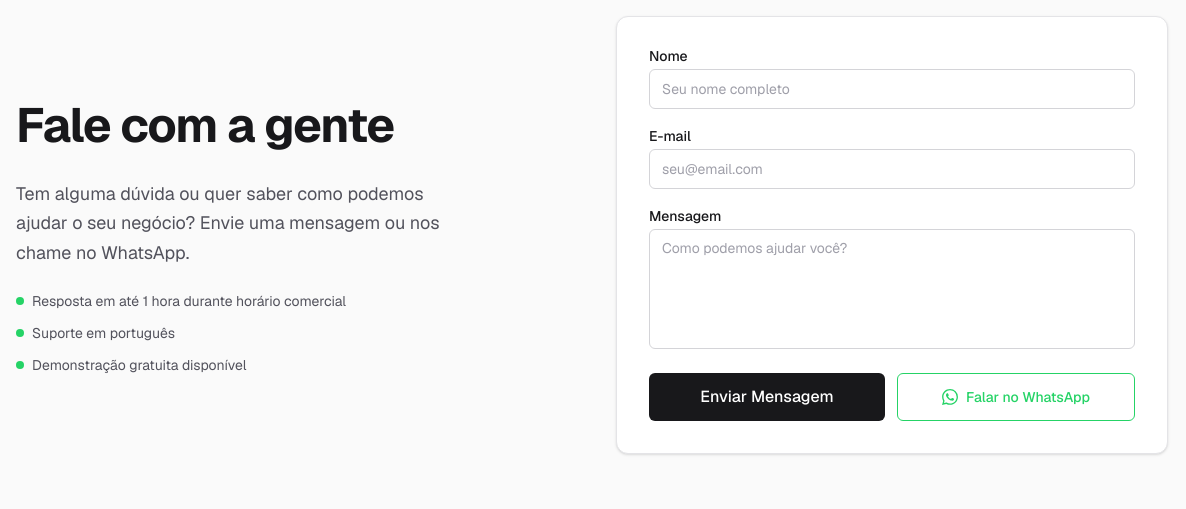
Test: Contact form › error state › shows error message after failed HTTP response
Type "João" into the field labelled "Nome" at (892, 89), box [649,69,1135,109]
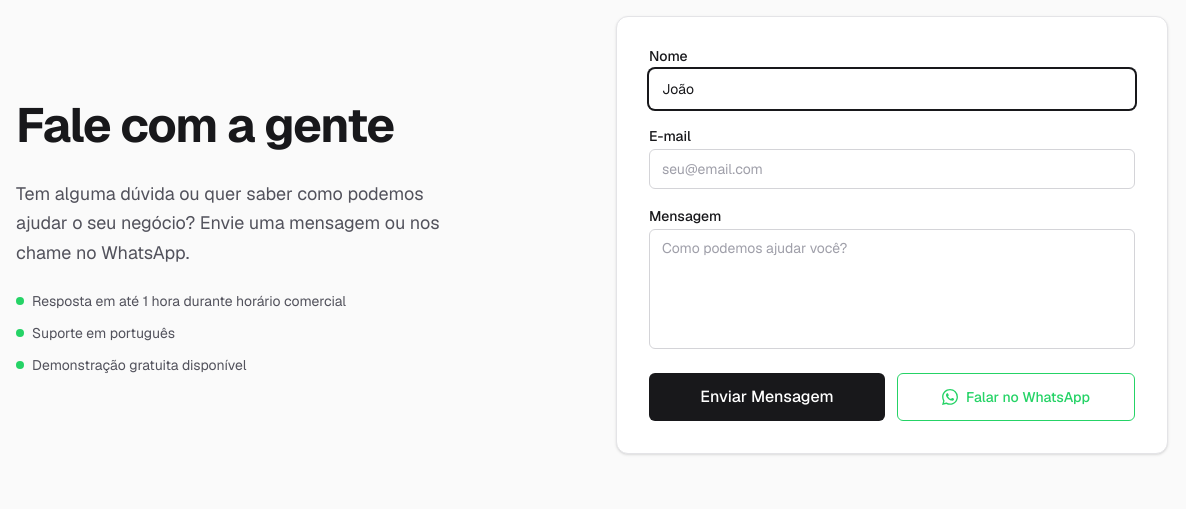
Type "joao@example.com" into the field labelled "E-mail" at (892, 169), box [649,149,1135,189]
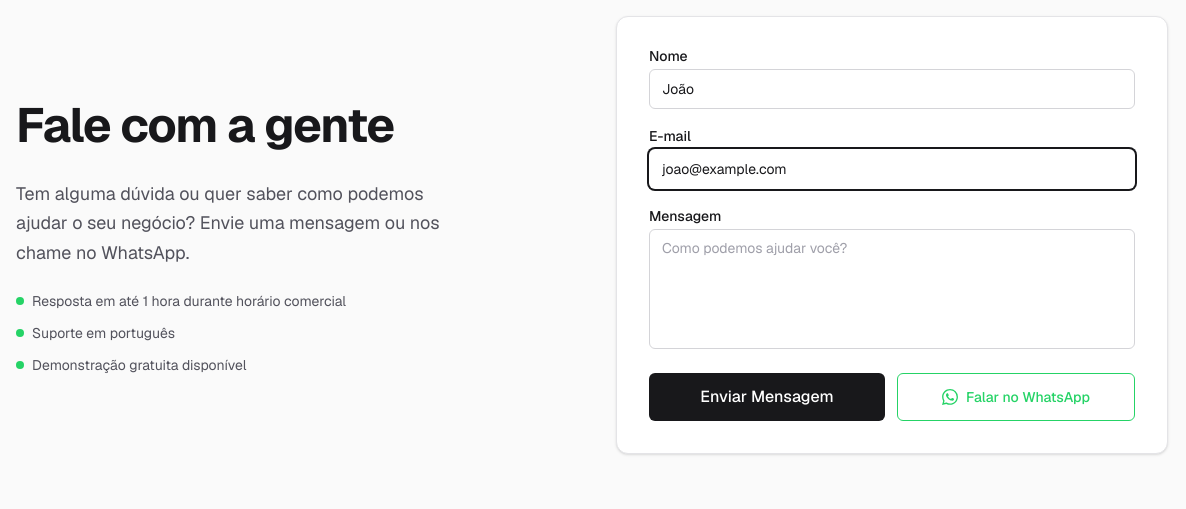
Type "Olá" into the text box labelled "Mensagem" at (892, 289), box [649,229,1135,349]
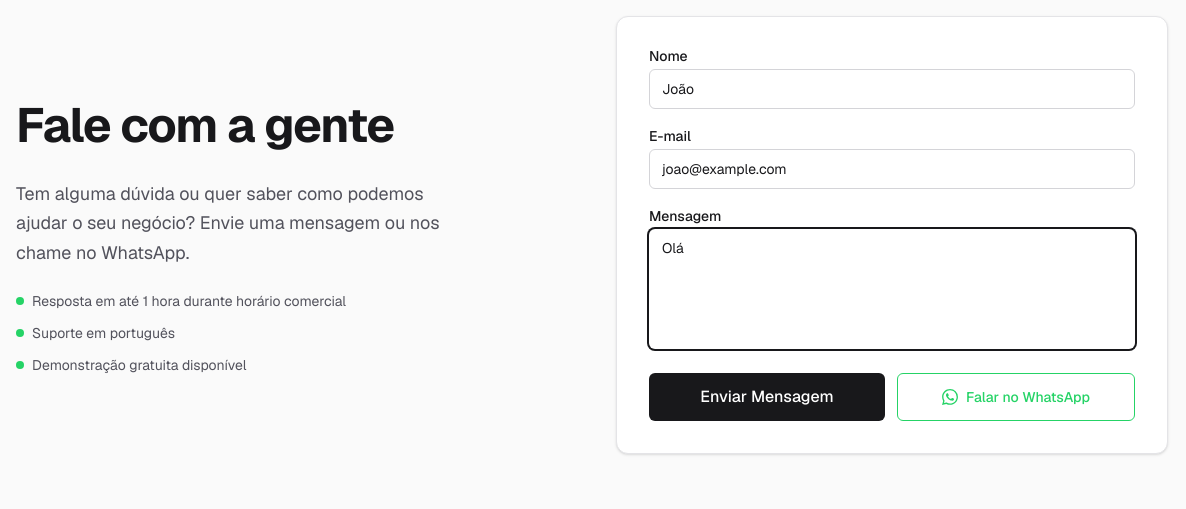
Click the button "Enviar Mensagem" at (767, 397), box [649,373,885,421]
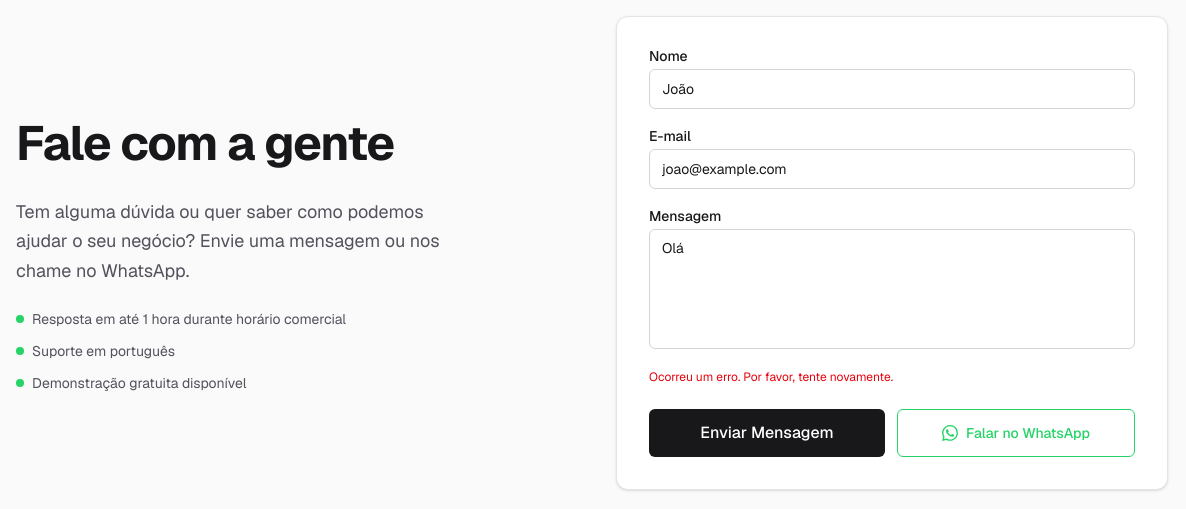
expect the text "Ocorreu um erro. Por favor, tente novamente." is shown: met, box [649,369,893,385]
